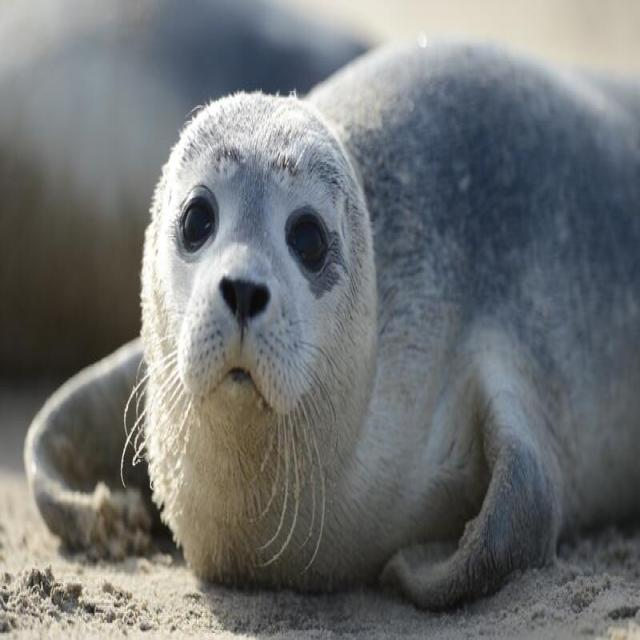WaterDog: (141, 30, 640, 616)
